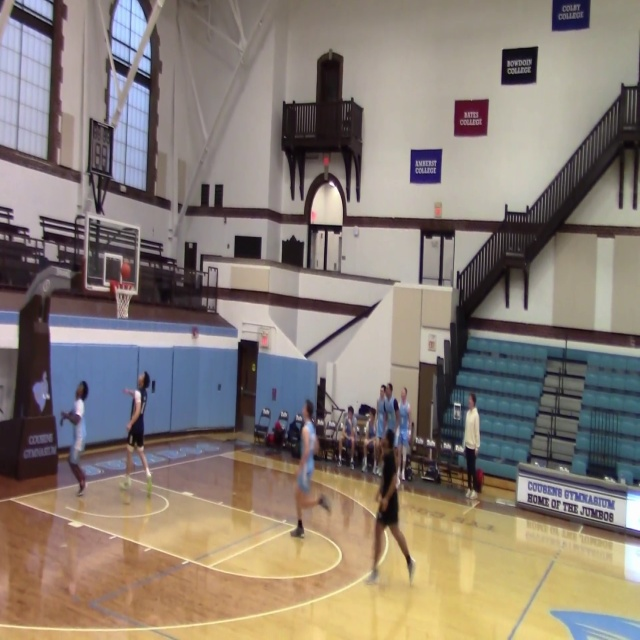Basketball: (120, 263, 131, 278), (119, 478, 131, 490), (68, 413, 80, 425), (109, 280, 118, 295)
